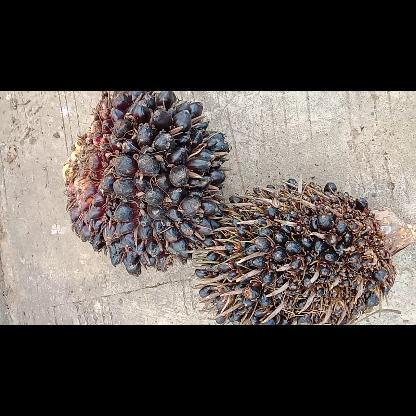TBS mentah: (59, 91, 232, 275), (193, 176, 397, 324)
